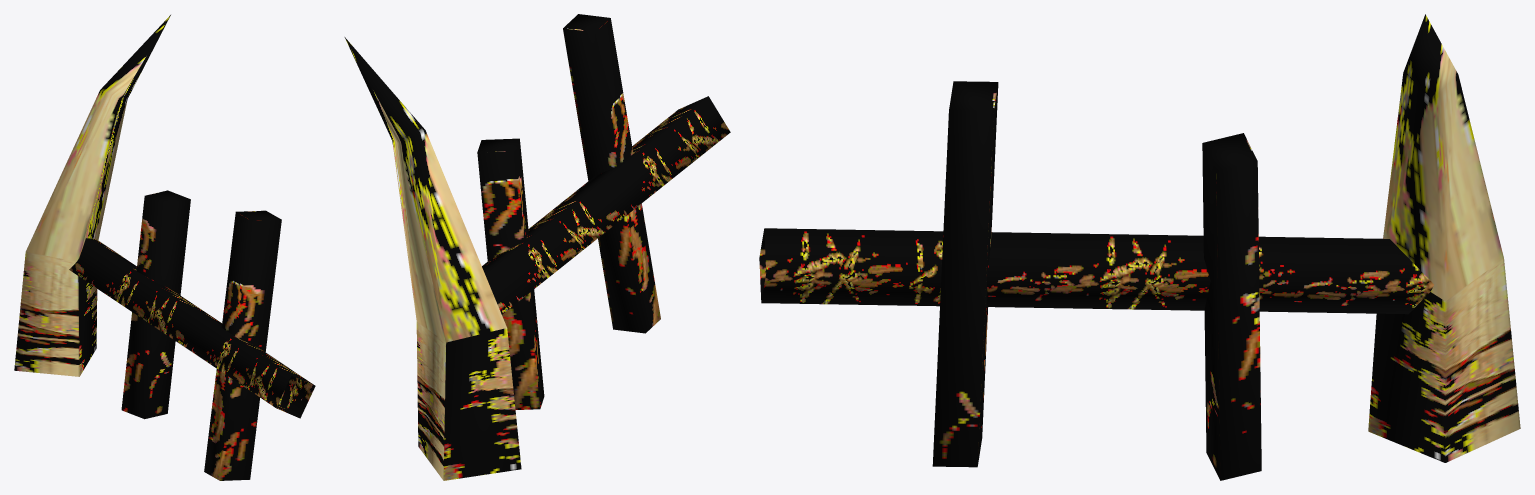
File: orcfence.obj
3 views of the same model, side by side, from view 1: azimuth 30°, elevation 25°; view 2: azimuth 150°, elevation 25°; view 3: azimuth 270°, elevation 25° (orthographic). The views are drawn at different scales.
Visible parts, largest first — view 1: OrcFence; view 2: OrcFence; view 3: OrcFence.
Boxes of the visible parts, <box> form: OrcFence: <box>14,15,315,480</box>; OrcFence: <box>344,14,730,480</box>; OrcFence: <box>759,14,1520,480</box>.
Bounding box in the file's own units: 2.45 × 5.13 × 6.81.
1 material, 1 textured.
